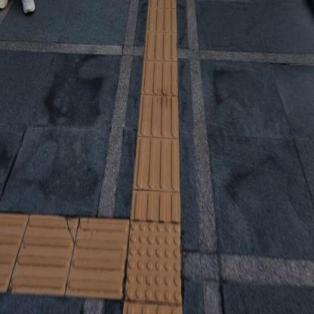Podoctatil: (97, 195, 206, 313), (0, 208, 122, 304), (131, 0, 184, 215), (122, 300, 183, 314)
